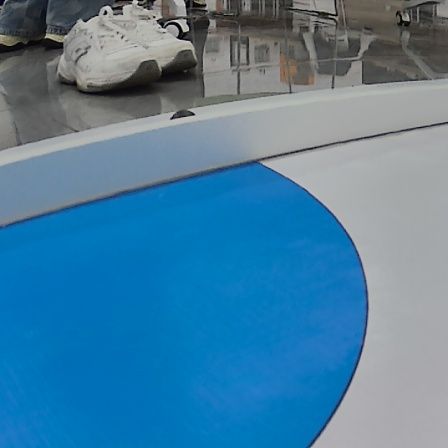blue_base: (0, 160, 370, 448)
